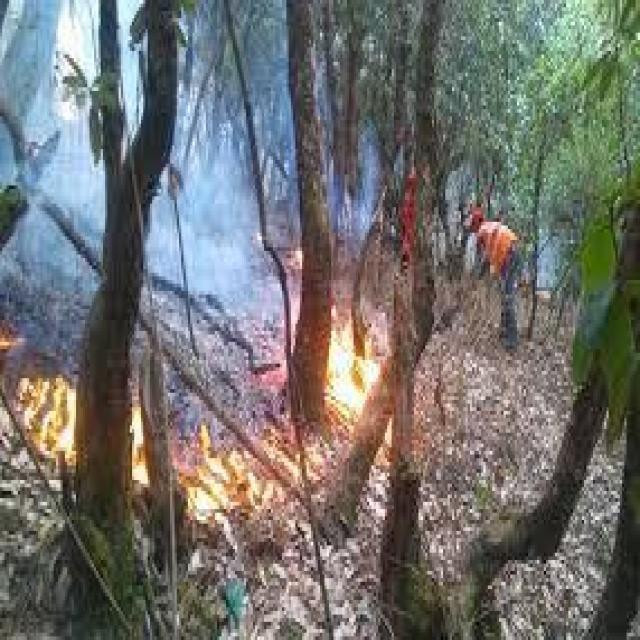Fire: (123, 301, 395, 533), (0, 324, 81, 484)
Smoke: (0, 0, 380, 310)
